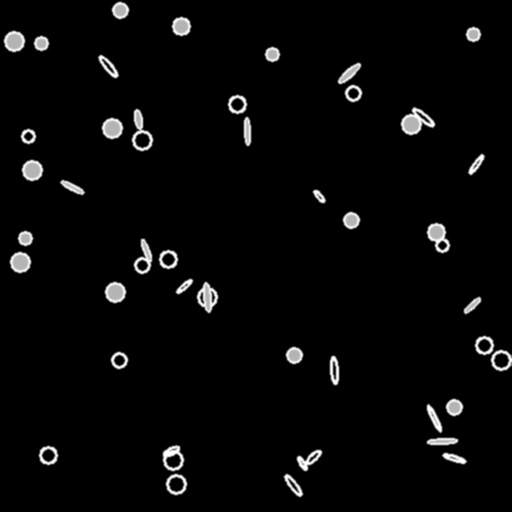pseudomonas: (97, 54, 119, 78), (411, 106, 435, 128), (337, 62, 361, 84), (425, 404, 443, 432), (283, 473, 303, 497), (467, 153, 485, 175), (60, 179, 84, 195), (304, 448, 322, 466), (463, 296, 481, 314), (202, 282, 212, 312), (175, 278, 193, 294), (442, 452, 466, 464), (140, 238, 152, 262), (162, 444, 180, 458), (330, 357, 338, 383), (133, 109, 143, 129), (312, 189, 326, 203), (296, 455, 308, 471), (428, 438, 456, 444), (244, 118, 250, 144)
synechocystis: (5, 32, 23, 50), (103, 119, 121, 137), (198, 288, 216, 306), (11, 253, 29, 271), (164, 451, 182, 469), (167, 475, 185, 493), (106, 283, 124, 301), (133, 131, 151, 149), (402, 115, 420, 133), (23, 161, 41, 179), (492, 351, 510, 369), (476, 337, 492, 353), (173, 18, 189, 34), (229, 96, 245, 112), (428, 224, 444, 240), (160, 251, 176, 267), (40, 447, 56, 463), (344, 213, 358, 227), (113, 3, 127, 17), (135, 258, 149, 272), (447, 400, 461, 414), (287, 348, 301, 362), (346, 86, 360, 100), (112, 353, 126, 367), (19, 232, 31, 244), (467, 28, 479, 40), (35, 37, 47, 49), (436, 239, 448, 251), (266, 48, 278, 60), (22, 130, 34, 142)
